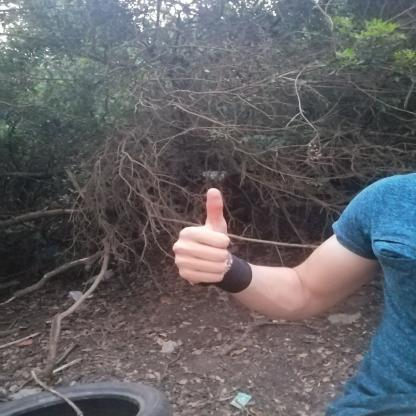ALIF: (161, 179, 250, 293)
